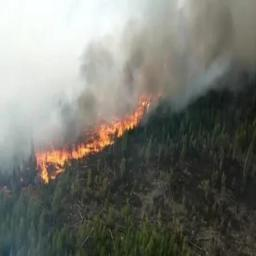Low smoke: (78, 2, 256, 120)
Medium fire: (34, 98, 165, 183)
